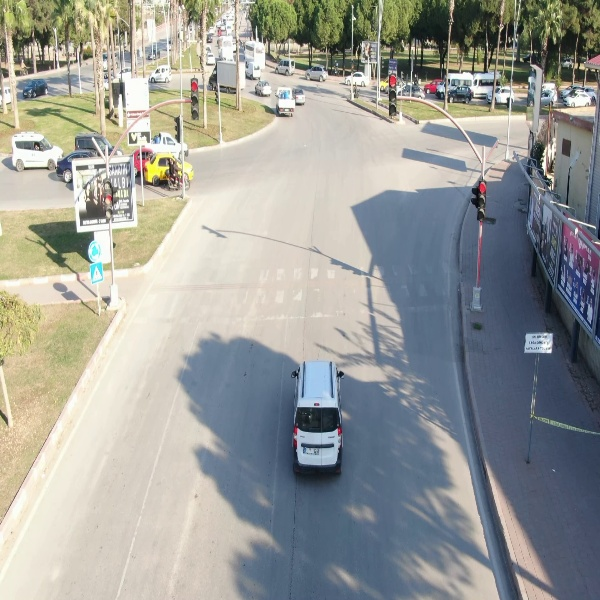car: (288, 356, 348, 477), (8, 131, 67, 174), (22, 76, 51, 100), (302, 64, 331, 84), (445, 83, 474, 103), (563, 89, 593, 108), (341, 70, 372, 88), (274, 57, 298, 80), (148, 64, 175, 84), (253, 79, 273, 97), (293, 85, 305, 108)
